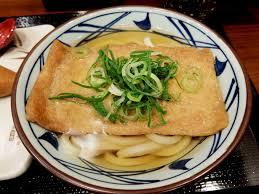kitune: (23, 9, 249, 187)
